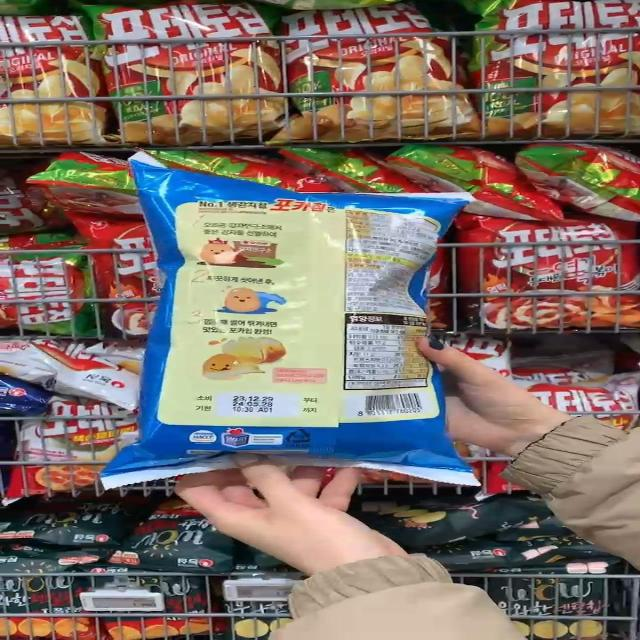pokaChip: (96, 147, 495, 493)
